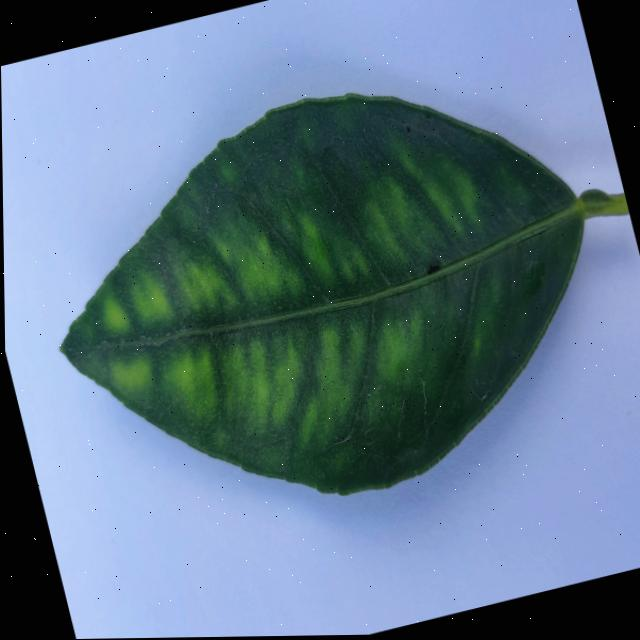greening: (60, 95, 629, 494)
